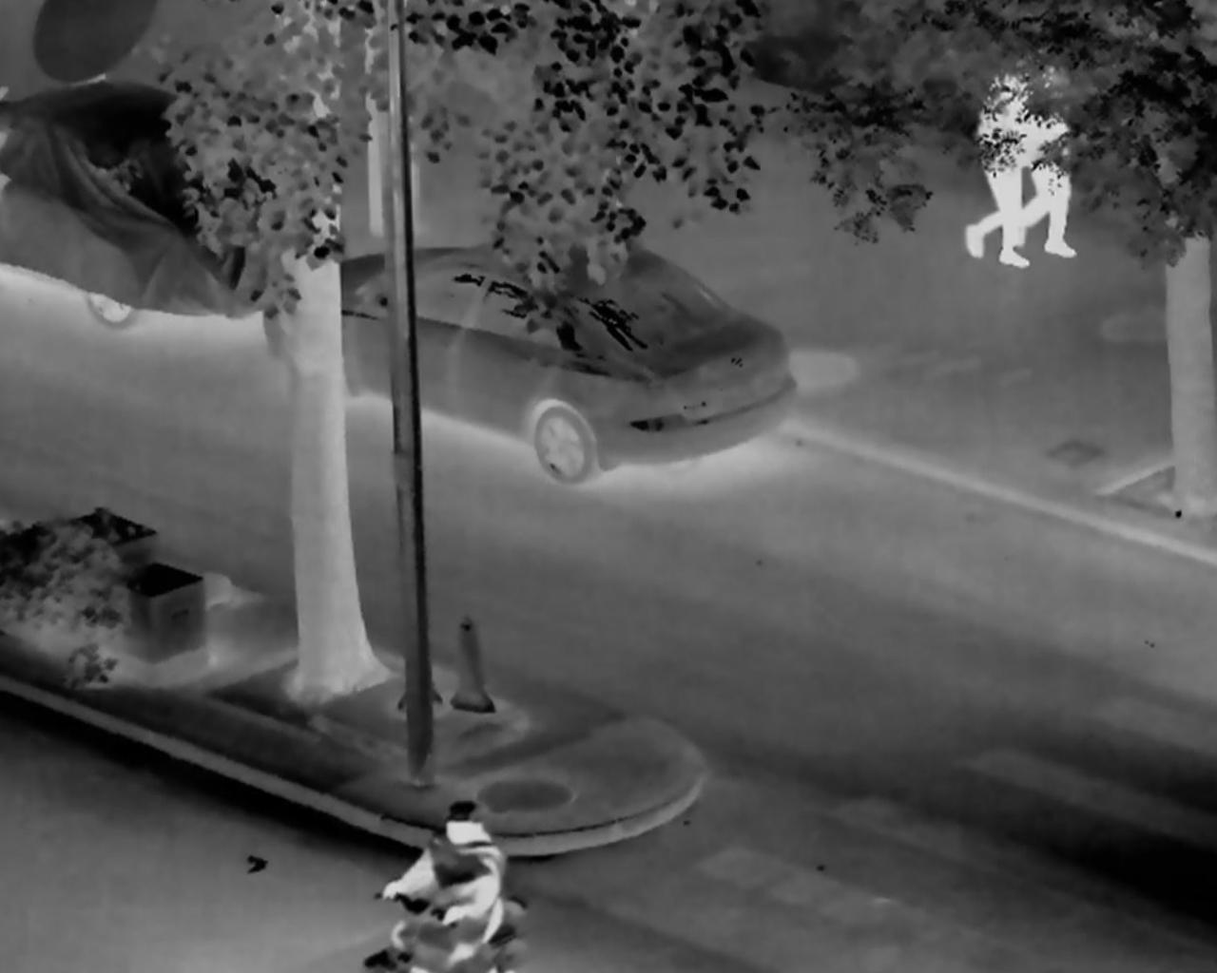person: (382, 802, 507, 970), (967, 56, 1028, 269), (1020, 43, 1075, 260)
